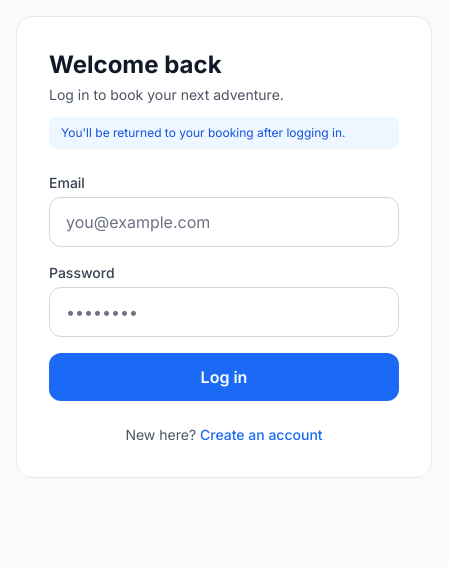
Test case: Login › shows an error message on invalid credentials
Type "ram@example.com" into the field labelled "Email" at x=224, y=222, box [49,197,399,247]
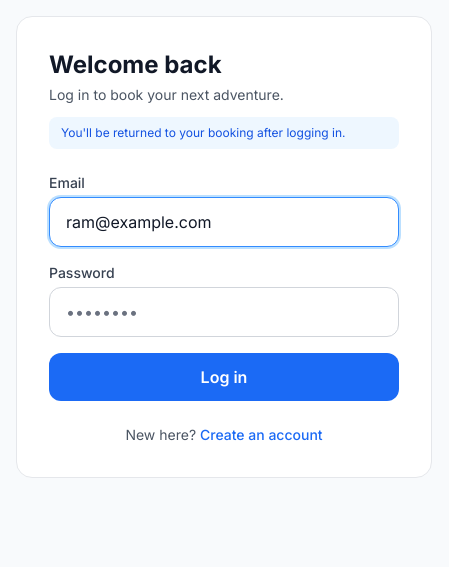
Type "wrongpass" into the password field labelled "Password" at x=224, y=312, box [49,287,399,337]
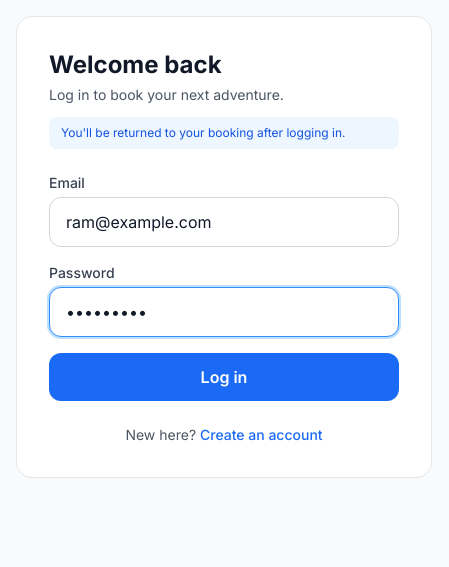
Click the button "Log in" at x=224, y=377, box [49,353,399,401]
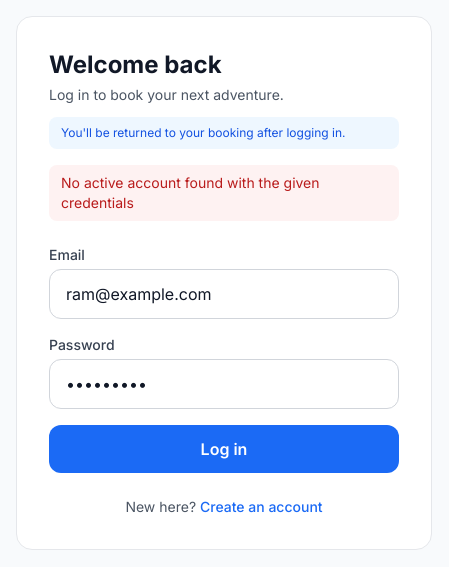
expect the text "No active account found with the given credentials" is shown: met, box [49,165,399,221]
